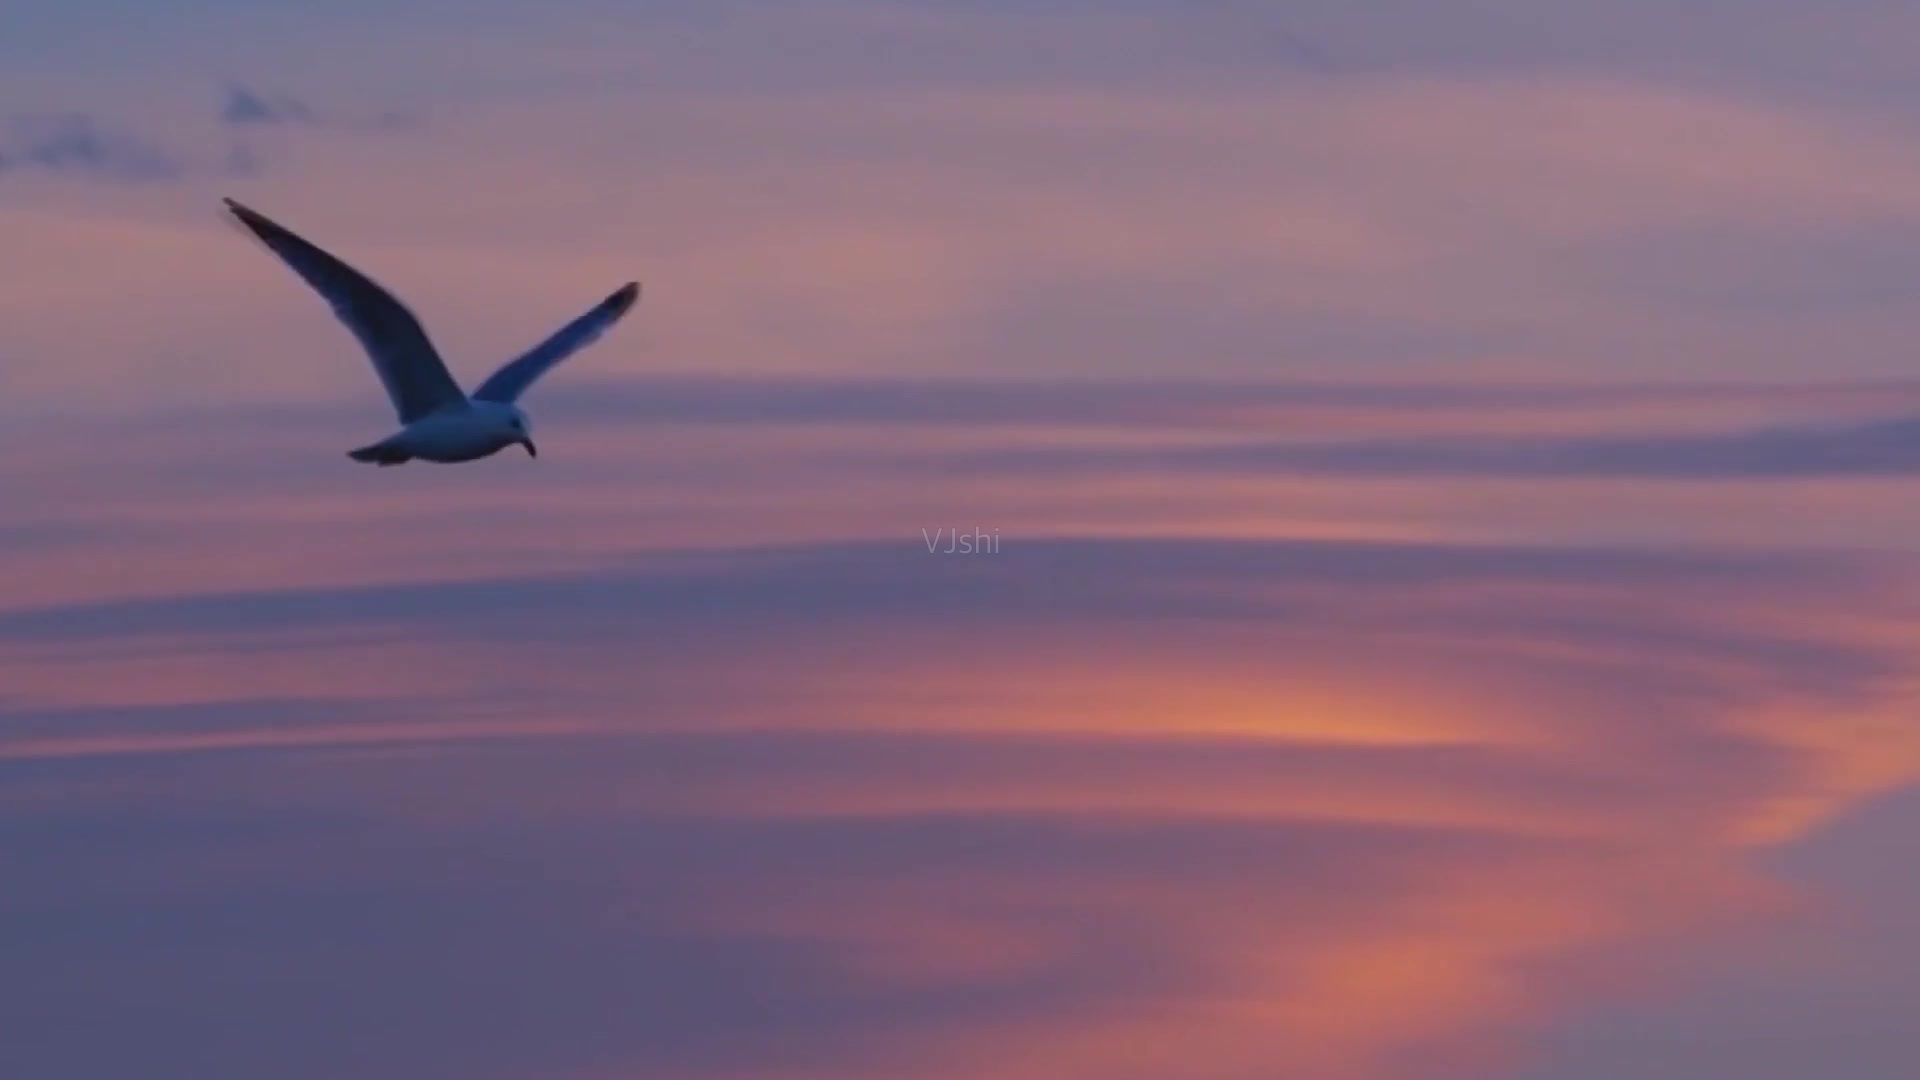bird: (211, 193, 644, 468)
